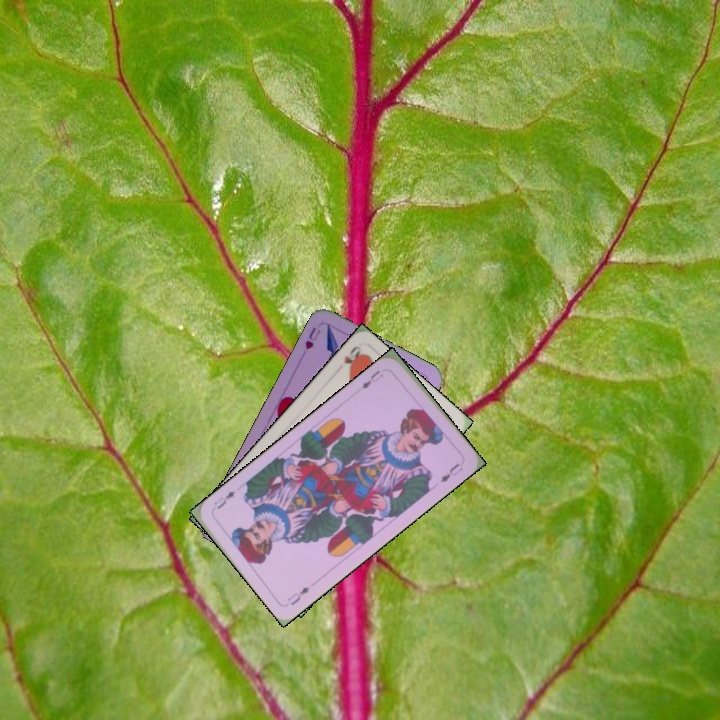EU: (357, 366, 386, 392), (284, 582, 313, 608)
HO: (340, 342, 365, 372)
HU: (301, 323, 323, 352)
